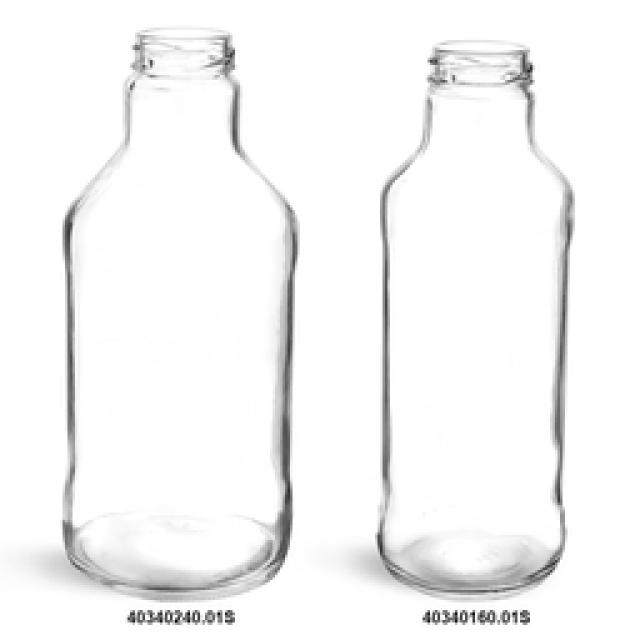glass_beverage_bottles: (67, 25, 288, 592), (382, 42, 568, 585)
